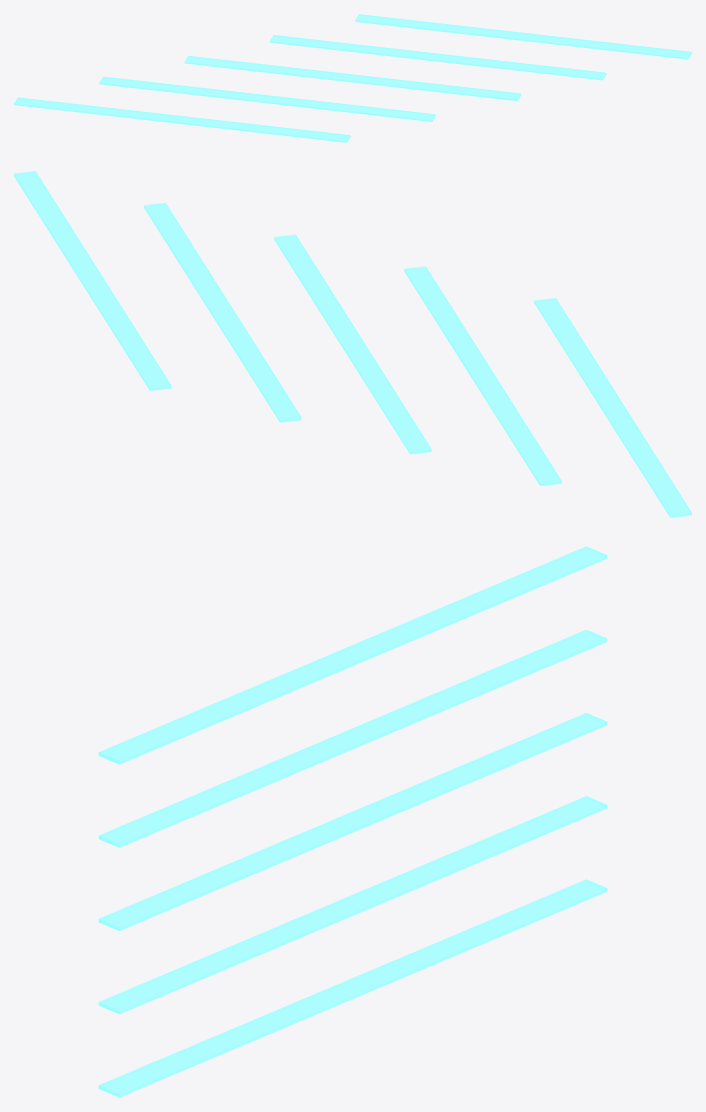
The model's file is Overlay_Fill.fbx.
3 views of the same model, one above another, from view 1: azimuth 30°, elevation 25°; view 2: azimuth 150°, elevation 25°; view 3: azimuth 270°, elevation 25° (orthographic). The views are drawn at different scales.
Parts seen in each view (by area): view 1: Overlay_Fill_Body; view 2: Overlay_Fill_Body; view 3: Overlay_Fill_Body.
Boxes of the visible parts, x1,y1,x2,y2 form: Overlay_Fill_Body: (14, 14, 691, 142); Overlay_Fill_Body: (14, 171, 691, 517); Overlay_Fill_Body: (98, 546, 607, 1097).
Size of the model in its own units: 1.32 by 0.004 by 0.5164.
